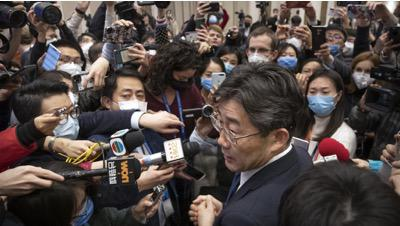mask_weared_incorrect: (324, 29, 342, 52)
with_mask: (46, 103, 81, 142), (111, 86, 148, 121), (67, 183, 94, 225), (306, 85, 337, 118), (351, 64, 375, 91), (56, 54, 83, 77), (199, 69, 222, 93), (167, 74, 194, 93), (248, 45, 272, 64), (80, 36, 97, 59), (276, 50, 297, 68), (219, 56, 239, 74), (65, 86, 80, 107), (340, 37, 355, 56), (284, 34, 302, 49), (45, 32, 58, 47), (208, 14, 218, 24), (243, 18, 252, 27), (166, 10, 172, 17)
without_mask: (215, 106, 271, 172), (300, 65, 322, 85), (207, 31, 221, 47)
